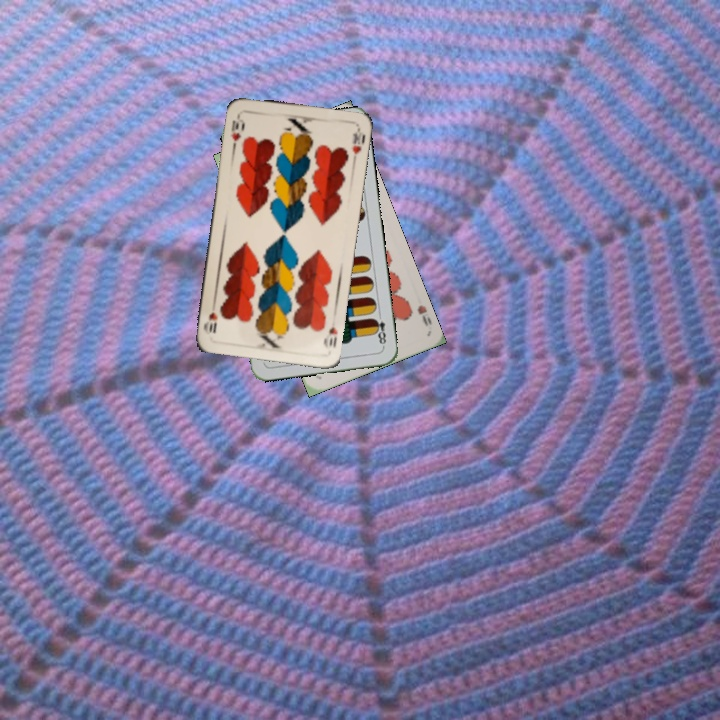E8: (369, 309, 388, 349)
H10: (227, 110, 247, 150), (320, 322, 340, 350)
H9: (413, 301, 434, 329)
